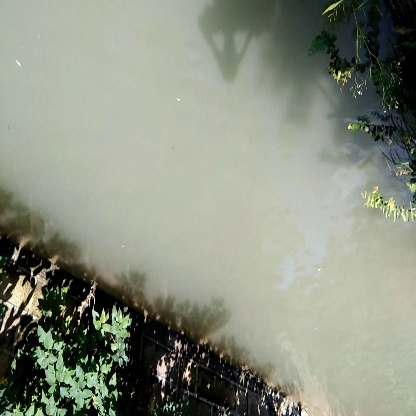grass: (332, 18, 416, 108)
